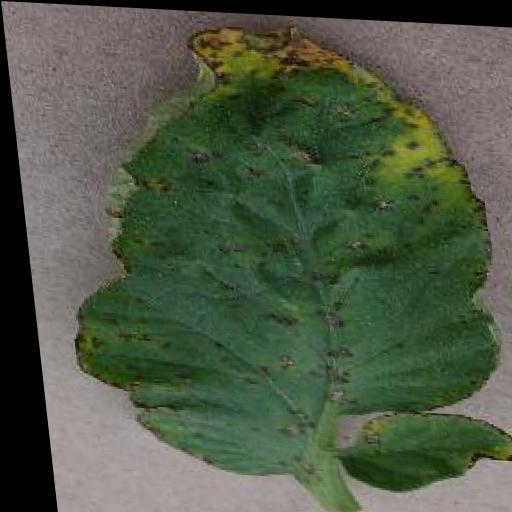Bacterial Spot: (33, 10, 509, 490), (331, 401, 512, 495)
